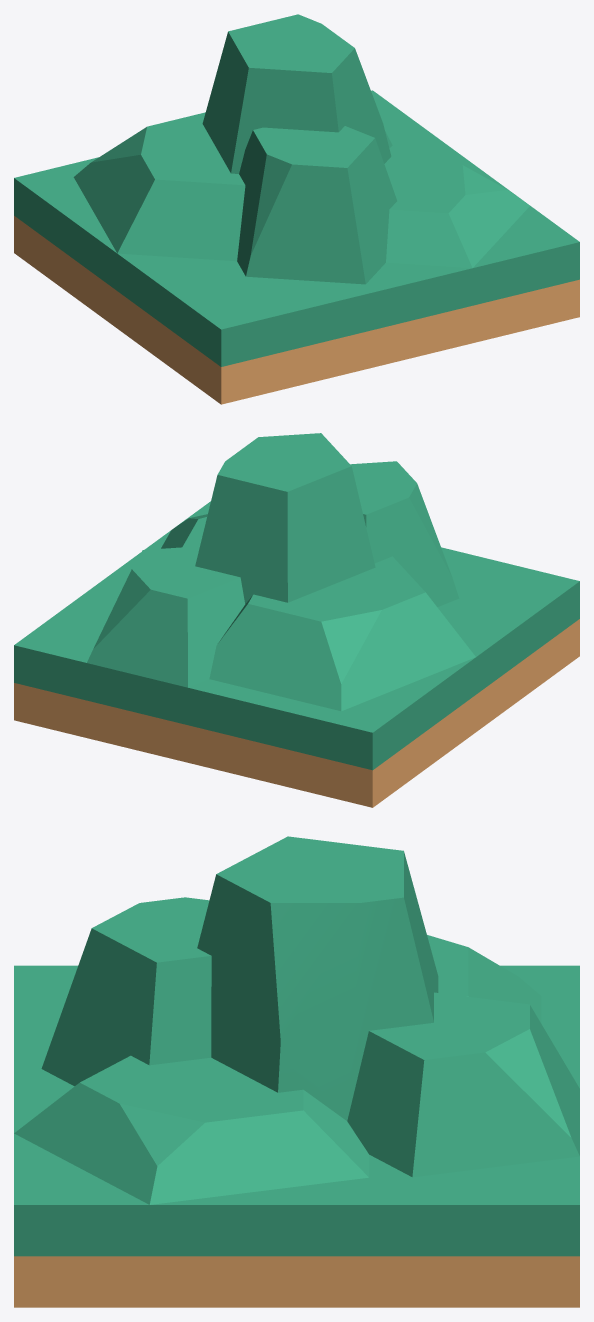
Rendered from tile_hill.dae.
The picture shows the model from 3 angles, top to bottom: view 1: azimuth 30°, elevation 25°; view 2: azimuth 150°, elevation 25°; view 3: azimuth 270°, elevation 25°; orthographic projection. The views are drawn at different scales.
Parts seen in each view (by area): view 1: rocks, tile_hill; view 2: rocks, tile_hill; view 3: rocks, tile_hill.
Part boxes in pixels (x1=…): rocks: x1=73, y1=14, x2=529, y2=284; tile_hill: x1=14, y1=90, x2=579, y2=404; rocks: x1=87, y1=433, x2=475, y2=711; tile_hill: x1=14, y1=501, x2=579, y2=807; rocks: x1=14, y1=836, x2=579, y2=1204; tile_hill: x1=14, y1=965, x2=579, y2=1307.
Size of the model in its own units: 1 by 0.6186 by 1.
